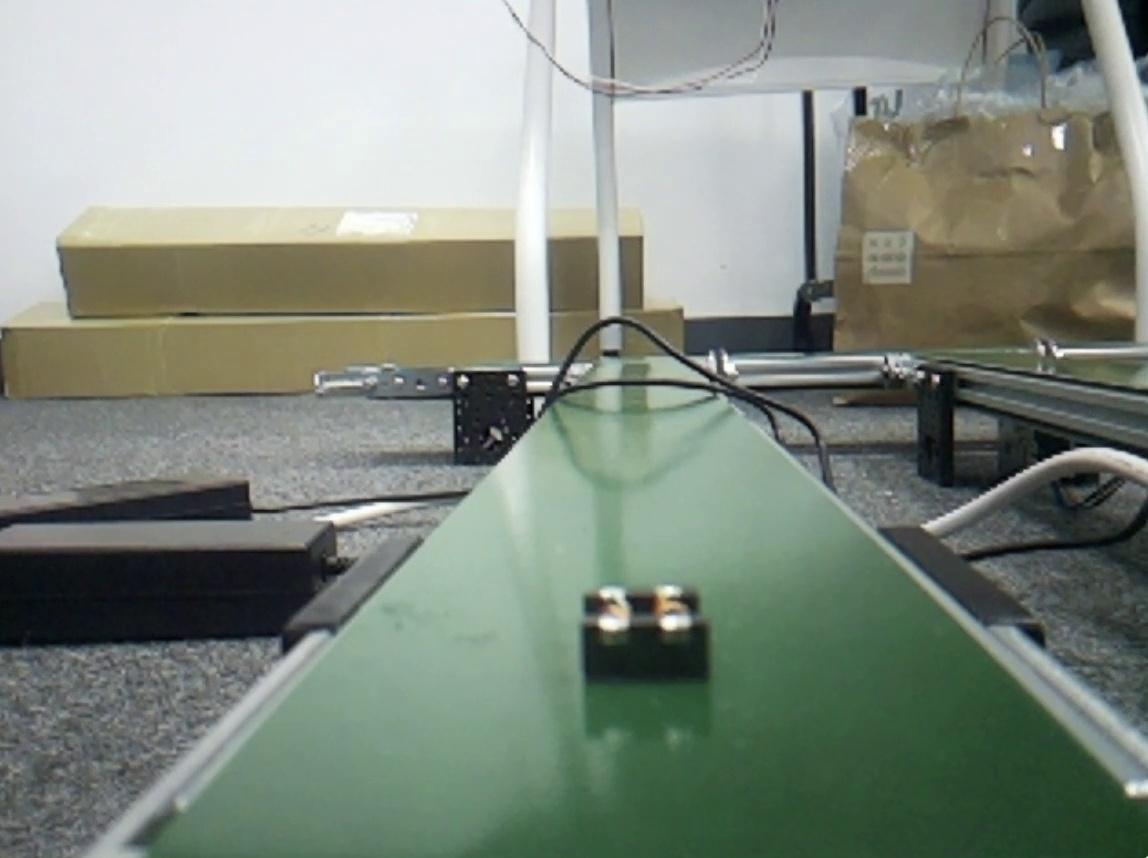inductor: (587, 587, 711, 686)
